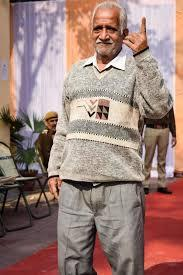Human: (53, 1, 165, 275)
